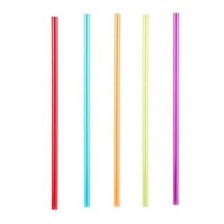drinking_straw: (166, 9, 186, 211), (108, 11, 126, 212), (137, 10, 153, 212), (47, 12, 62, 213), (79, 10, 93, 211)
